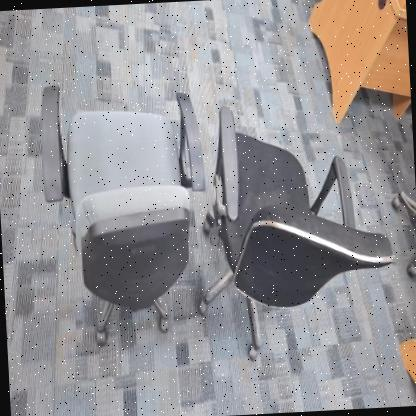chair: (181, 89, 407, 370), (28, 72, 222, 350)
